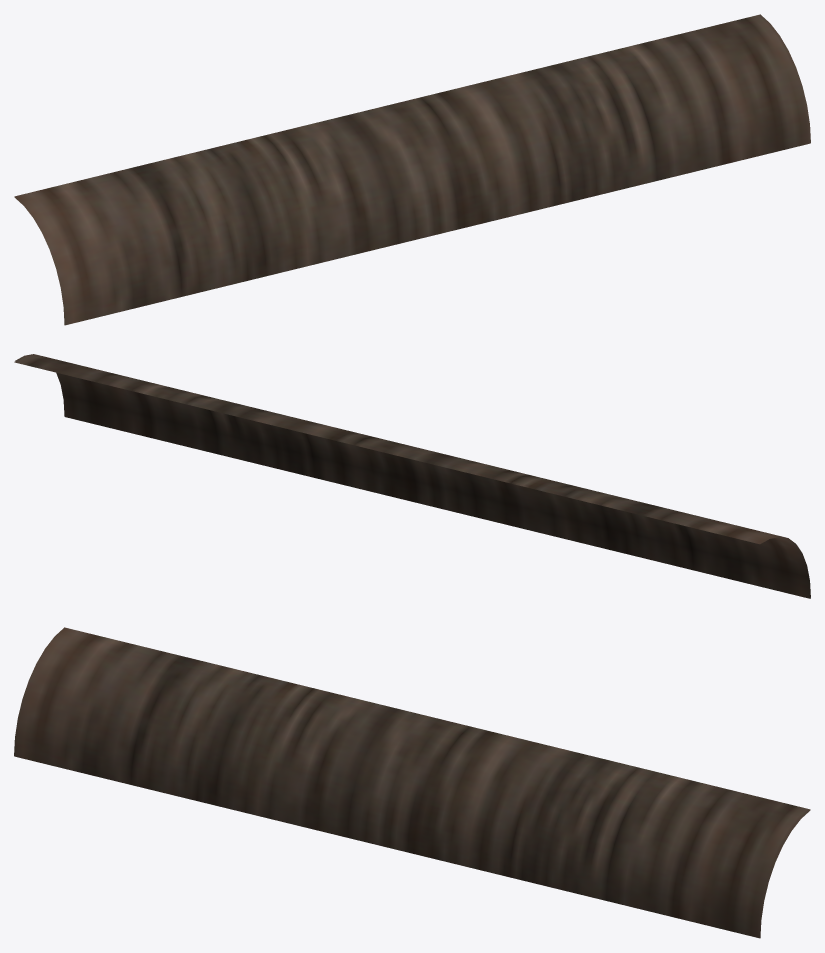
File: Hair_Strand_Part_2.fbx
3 renders of one model, top to bottom at view 1: azimuth 30°, elevation 25°; view 2: azimuth 150°, elevation 25°; view 3: azimuth 330°, elevation 25°, orthographic.
Visible parts, largest first — view 1: Hair_Strand_Part_2; view 2: Hair_Strand_Part_2; view 3: Hair_Strand_Part_2.
Boxes of the visible parts, x1,y1,x2,y2 form: Hair_Strand_Part_2: (14,14,810,325); Hair_Strand_Part_2: (14,354,810,598); Hair_Strand_Part_2: (14,627,810,938).
Bounding box in the file's own units: 6.03 × 0.7141 × 0.7135.
